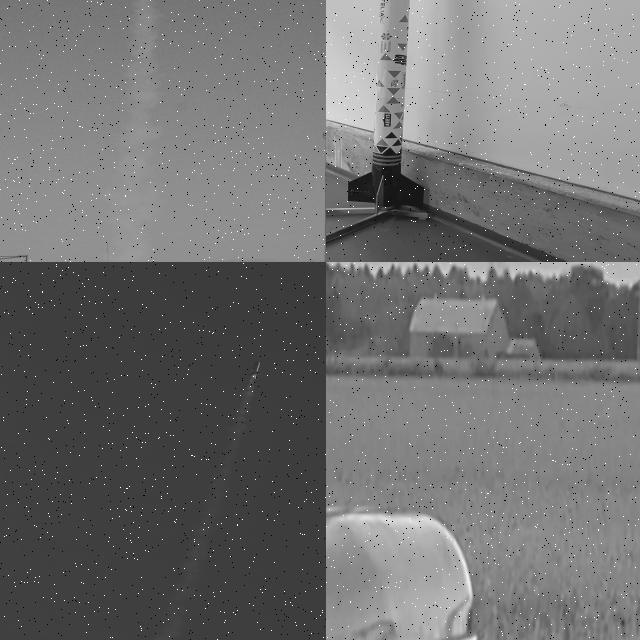Rocket: (348, 0, 424, 216), (246, 359, 262, 380)
